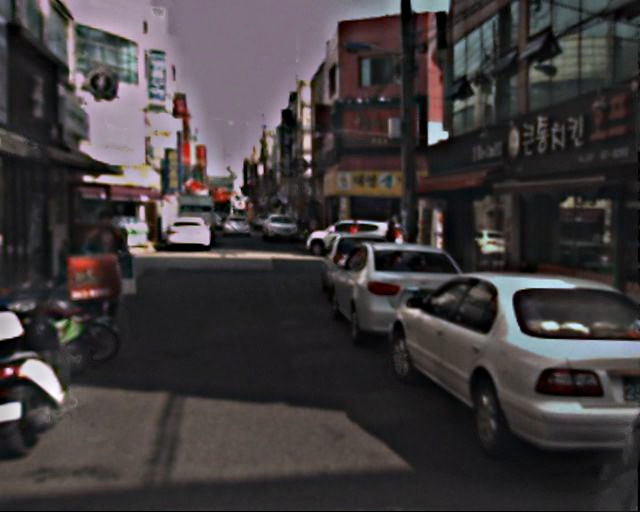person: (79, 211, 139, 336), (382, 220, 398, 258), (347, 220, 361, 253)
